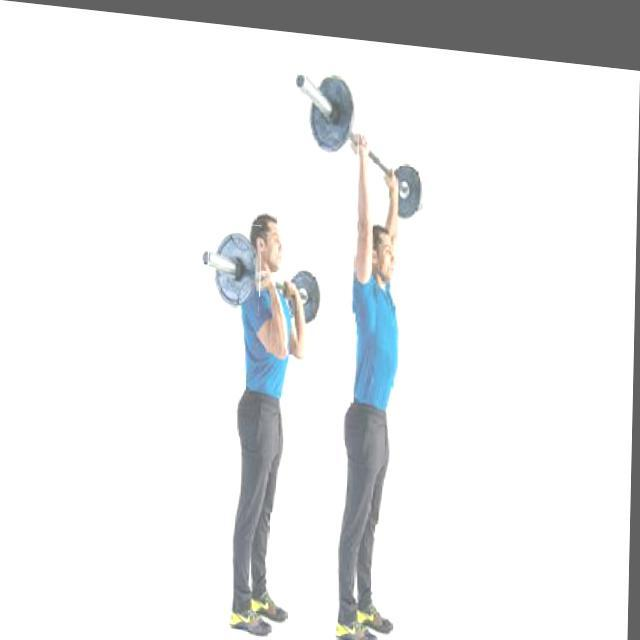barbell: (304, 59, 363, 153), (210, 216, 264, 306)
